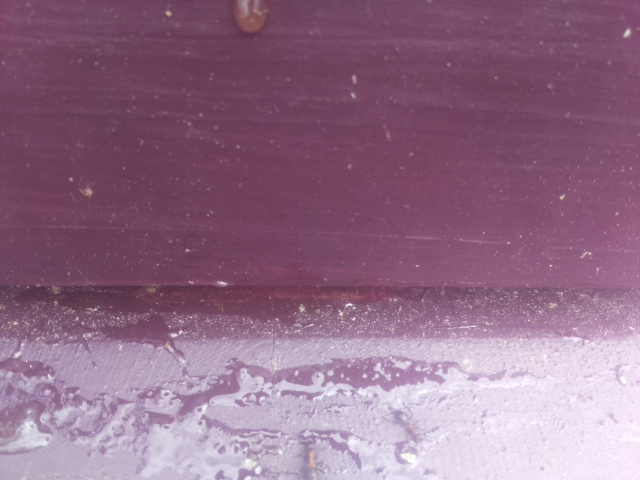ant: (305, 437, 320, 480)
not_ant: (227, 1, 274, 36)
